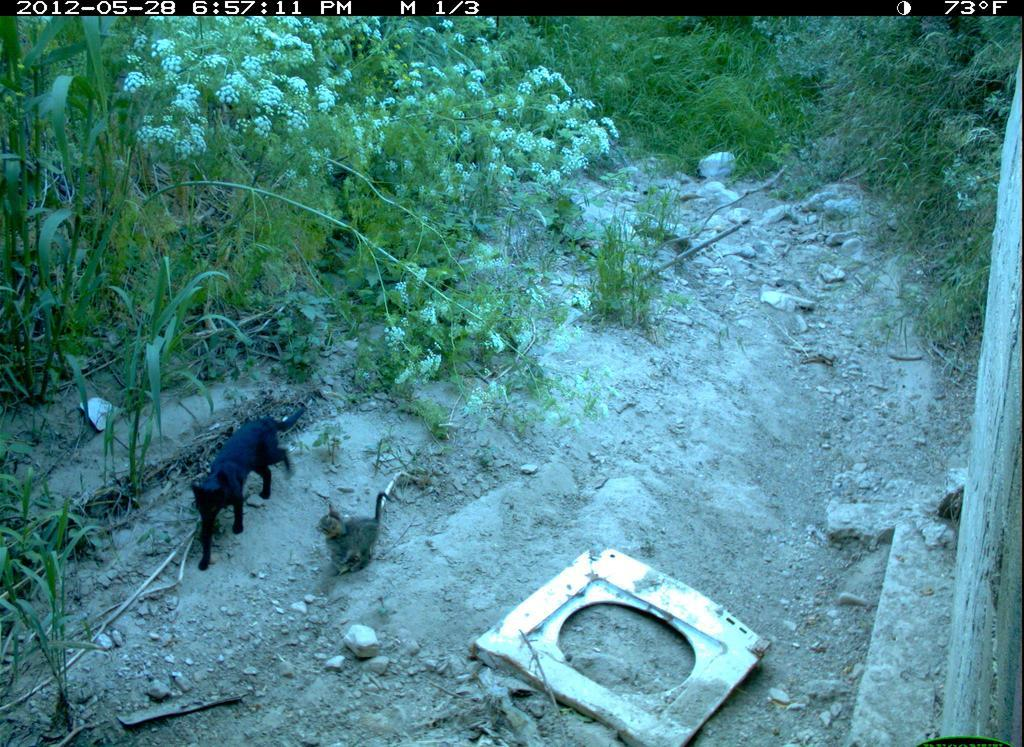cat: (184, 397, 309, 579), (312, 491, 401, 585)
